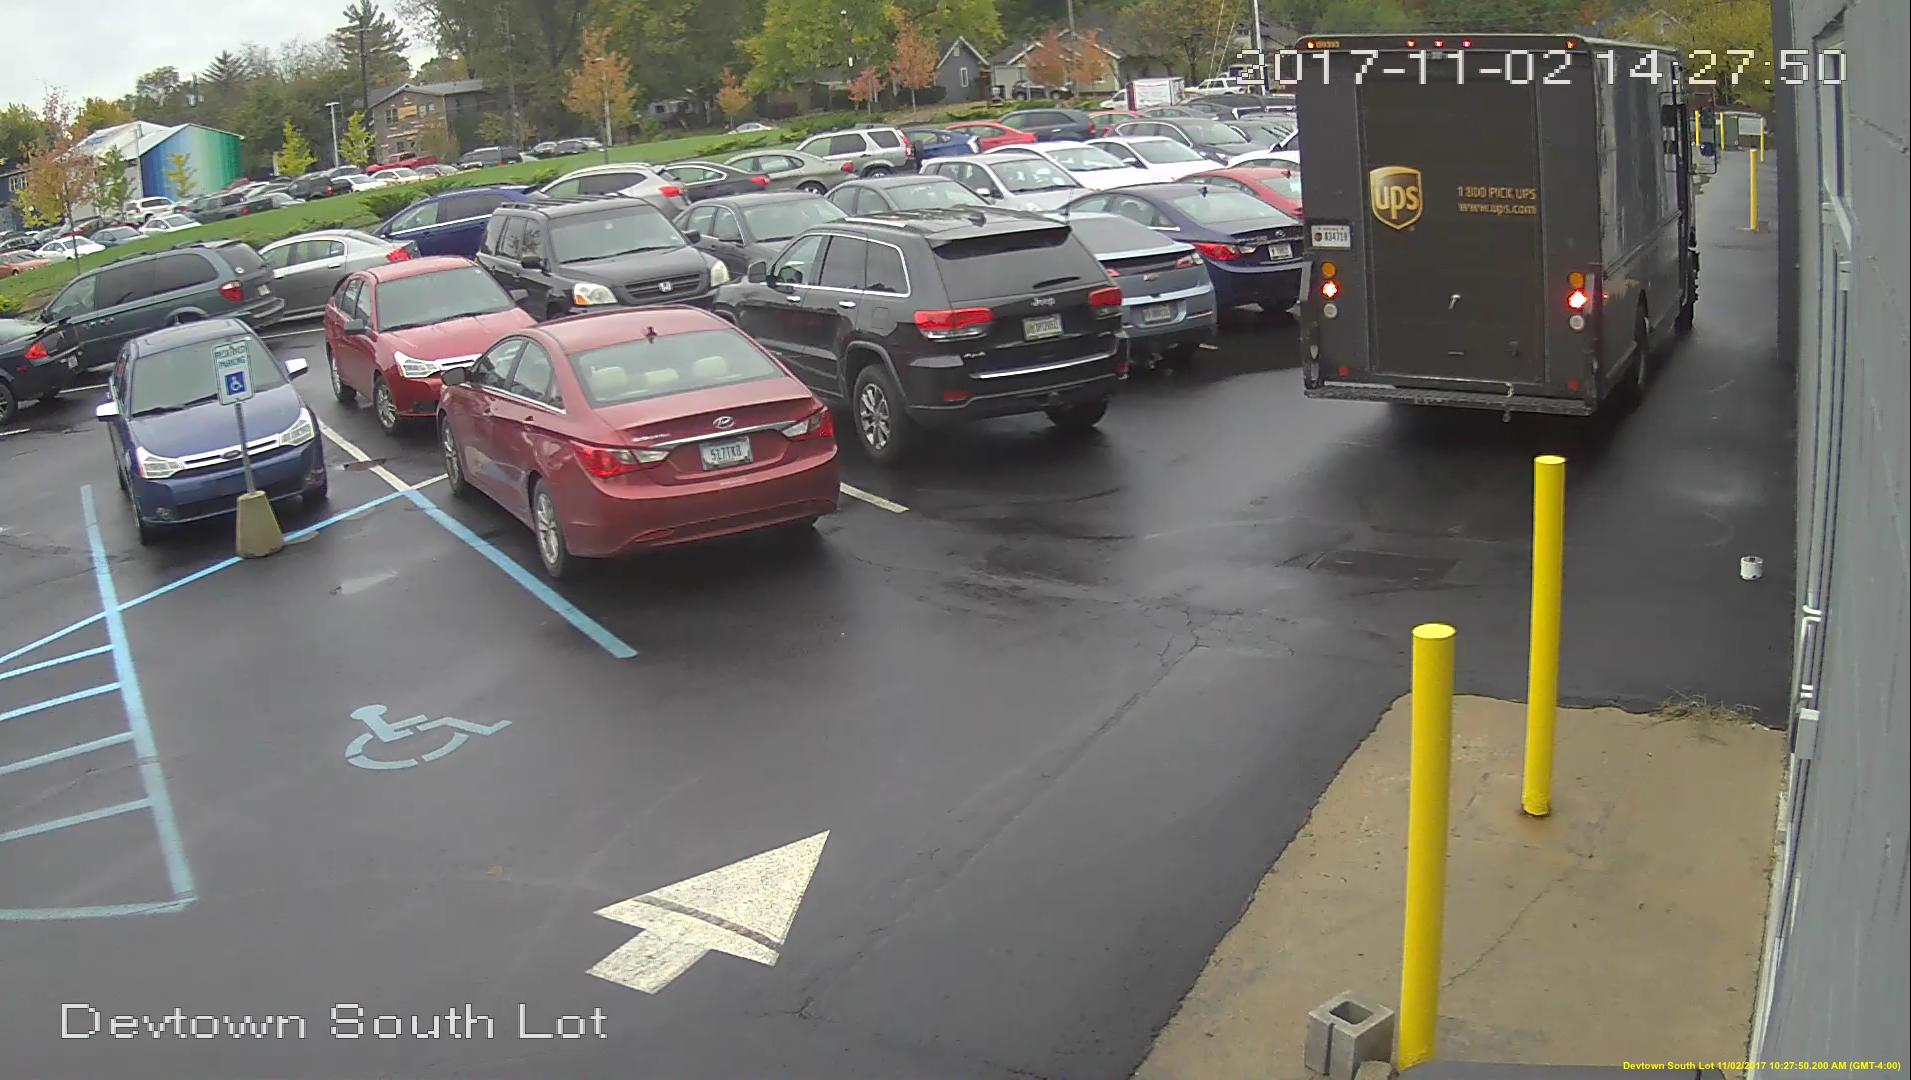ups_truck: (1294, 35, 1698, 434)
